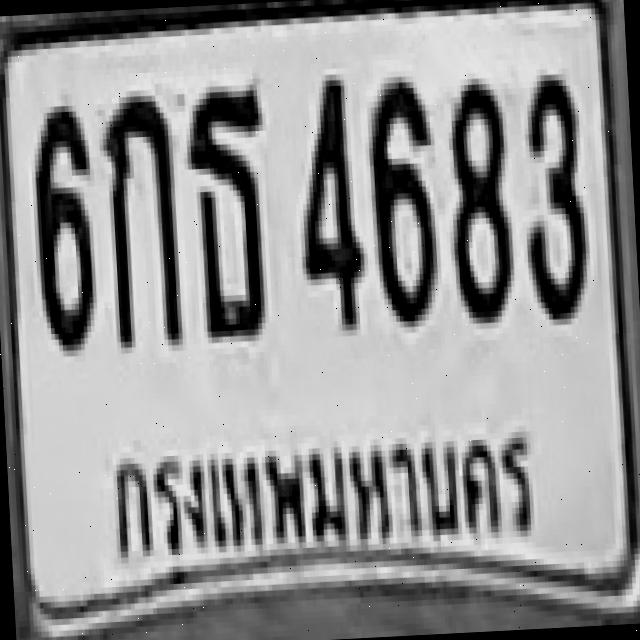10GorGai: (101, 92, 179, 346)
3: (518, 67, 589, 320)
33ThorThong: (182, 84, 271, 338)
4: (292, 74, 363, 326)
6: (364, 75, 439, 322), (28, 103, 96, 350)
7: (85, 408, 557, 595)
8: (442, 80, 512, 322)
